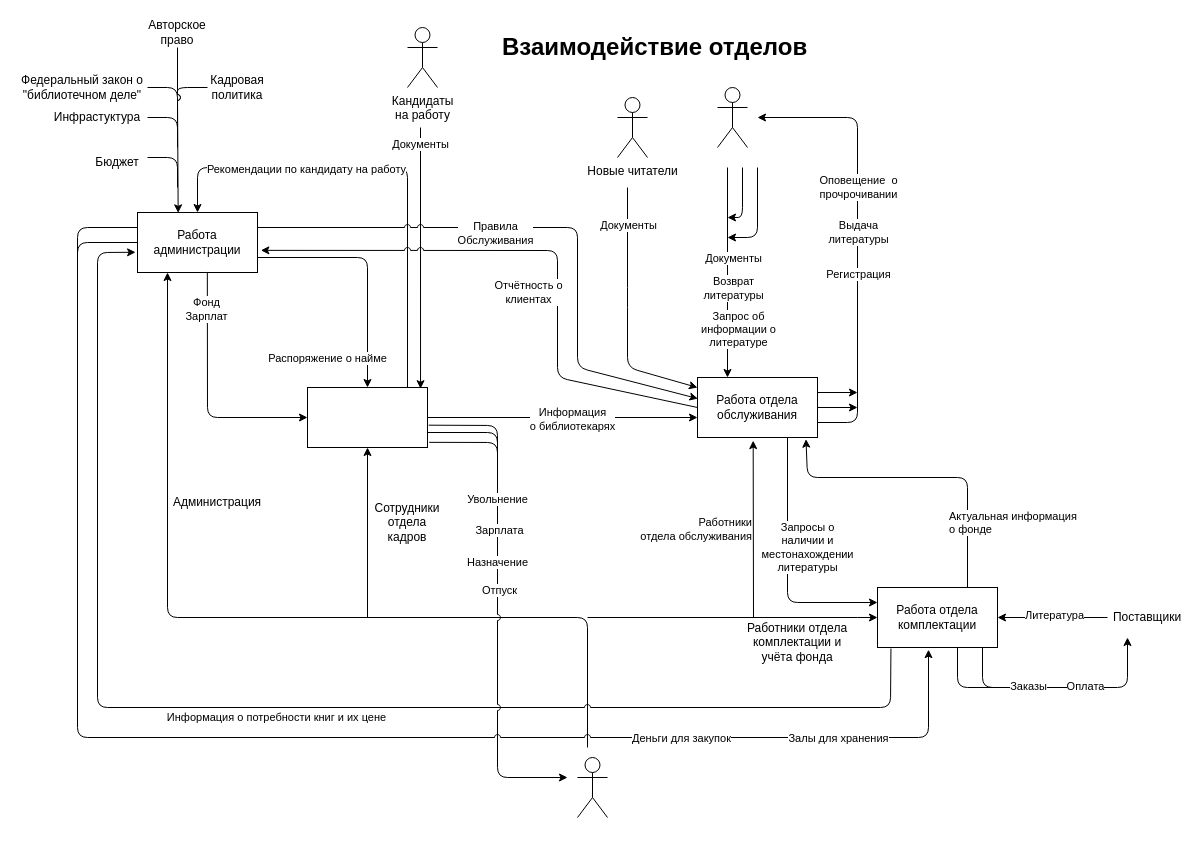
This 1198x855 diagram has some shape labels left out. The shapes that lost their labels are listed below. From the top down, each one's centre as x and y in pixels, then its label:
(732,117): Читатели
(367,417): Работа отдела кадров
(592,787): Сотрудники
